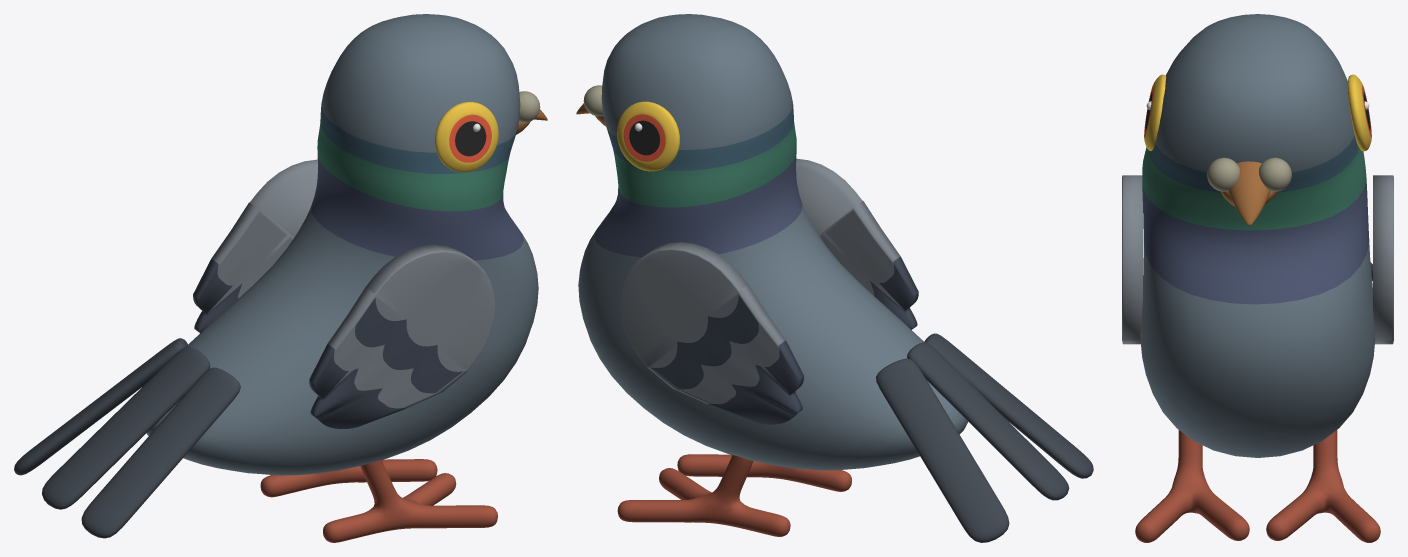
File: HATO_PopPegeon.fbx
3 views of the same model, side by side, from view 1: azimuth 30°, elevation 25°; view 2: azimuth 150°, elevation 25°; view 3: azimuth 270°, elevation 25° (orthographic). The views are drawn at different scales.
Parts seen in each view (by area): view 1: Cube, Cube.001, Vert.001, Cube.004, Cube.003, Cube.002, Cylinder; view 2: Cube, Cube.001, Cube.002, Vert.001, Cube.003, Cube.004, Cylinder; view 3: Cube, Vert.001, Cube.001, Cylinder, Sphere, Cylinder.001.
Part boxes in pixels (bbox=[...]): Cube: bbox=[146, 14, 538, 475]; Cube.001: bbox=[193, 159, 495, 428]; Vert.001: bbox=[260, 459, 497, 542]; Cube.004: bbox=[81, 367, 240, 538]; Cube.003: bbox=[42, 346, 210, 509]; Cube.002: bbox=[14, 338, 188, 475]; Cylinder: bbox=[435, 102, 498, 172]; Cube: bbox=[578, 14, 968, 470]; Cube.001: bbox=[620, 158, 918, 424]; Cube.002: bbox=[876, 358, 1009, 542]; Vert.001: bbox=[617, 454, 851, 536]; Cube.003: bbox=[907, 342, 1069, 500]; Cube.004: bbox=[924, 333, 1093, 478]; Cylinder: bbox=[617, 101, 679, 171]; Cube: bbox=[1140, 14, 1375, 457]; Vert.001: bbox=[1135, 430, 1380, 542]; Cube.001: bbox=[1122, 175, 1393, 344]; Cylinder: bbox=[1144, 74, 1371, 151]; Sphere: bbox=[1207, 157, 1291, 191]; Cylinder.001: bbox=[1228, 161, 1270, 225].
Bounding box in the file's own units: 5.73 × 5.16 × 2.51.
